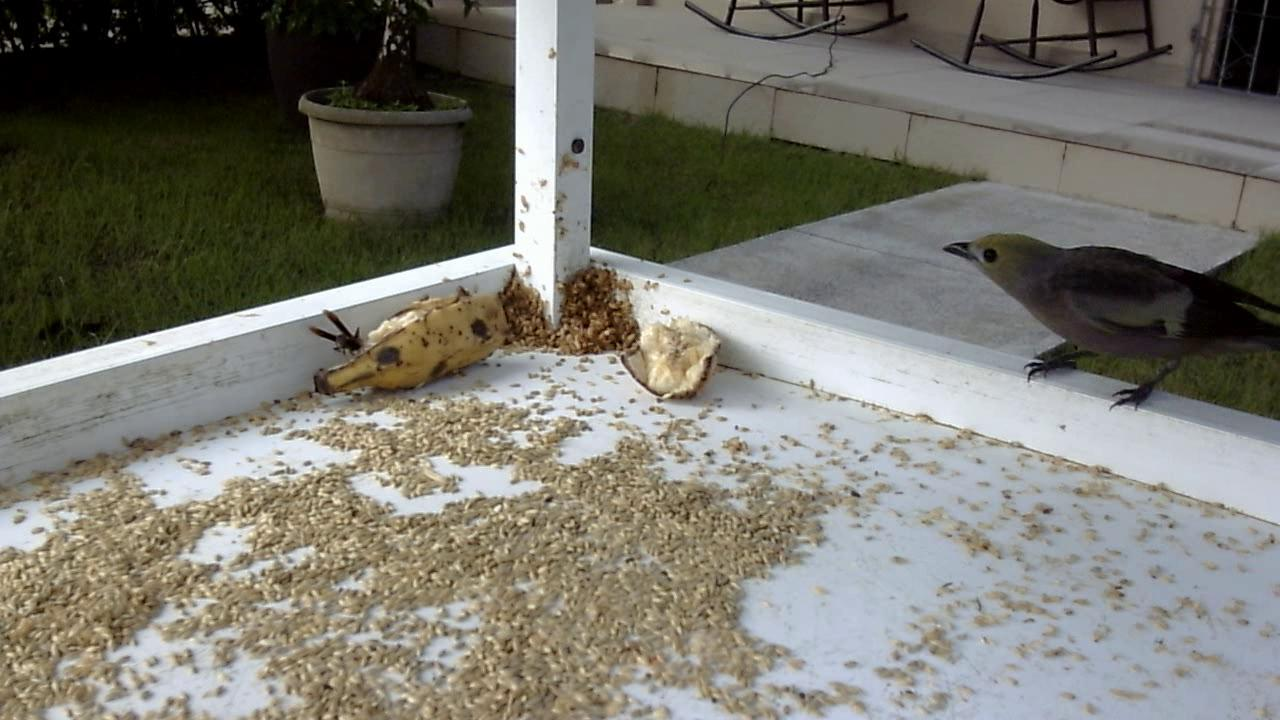sanhaco_do_coqueiro: (931, 212, 1276, 433)
